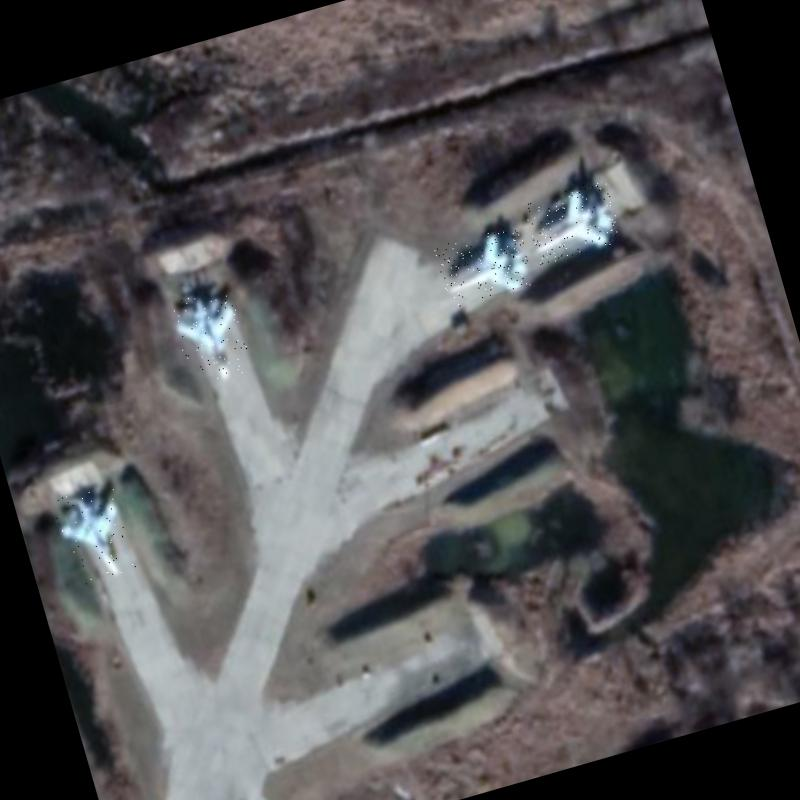A1: (50, 480, 138, 586), (521, 178, 623, 265), (433, 222, 535, 308)
A19: (168, 286, 253, 390)
